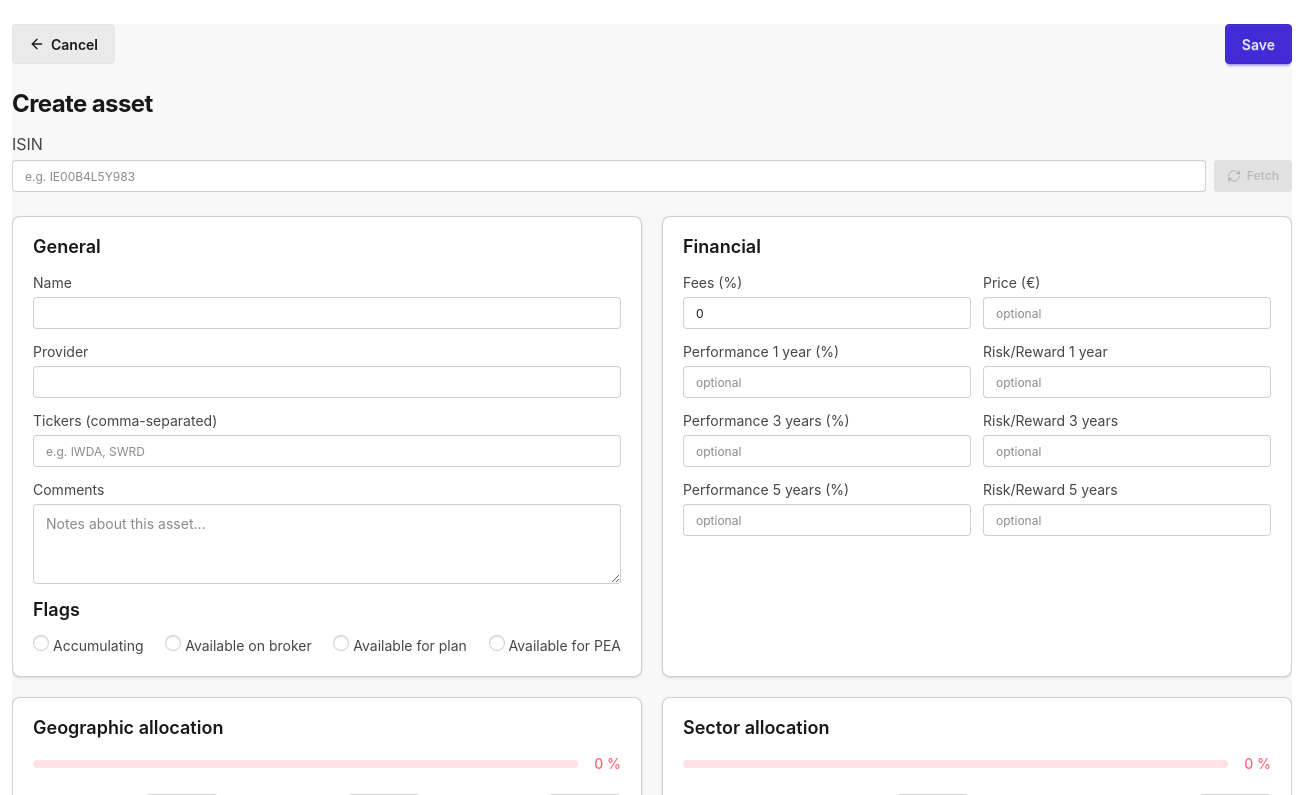
it: AssetCreatePage › clears isin error when user corrects the isin field
In the field with test id "name": [327, 313] box [33, 297, 621, 329], type "My ETF"
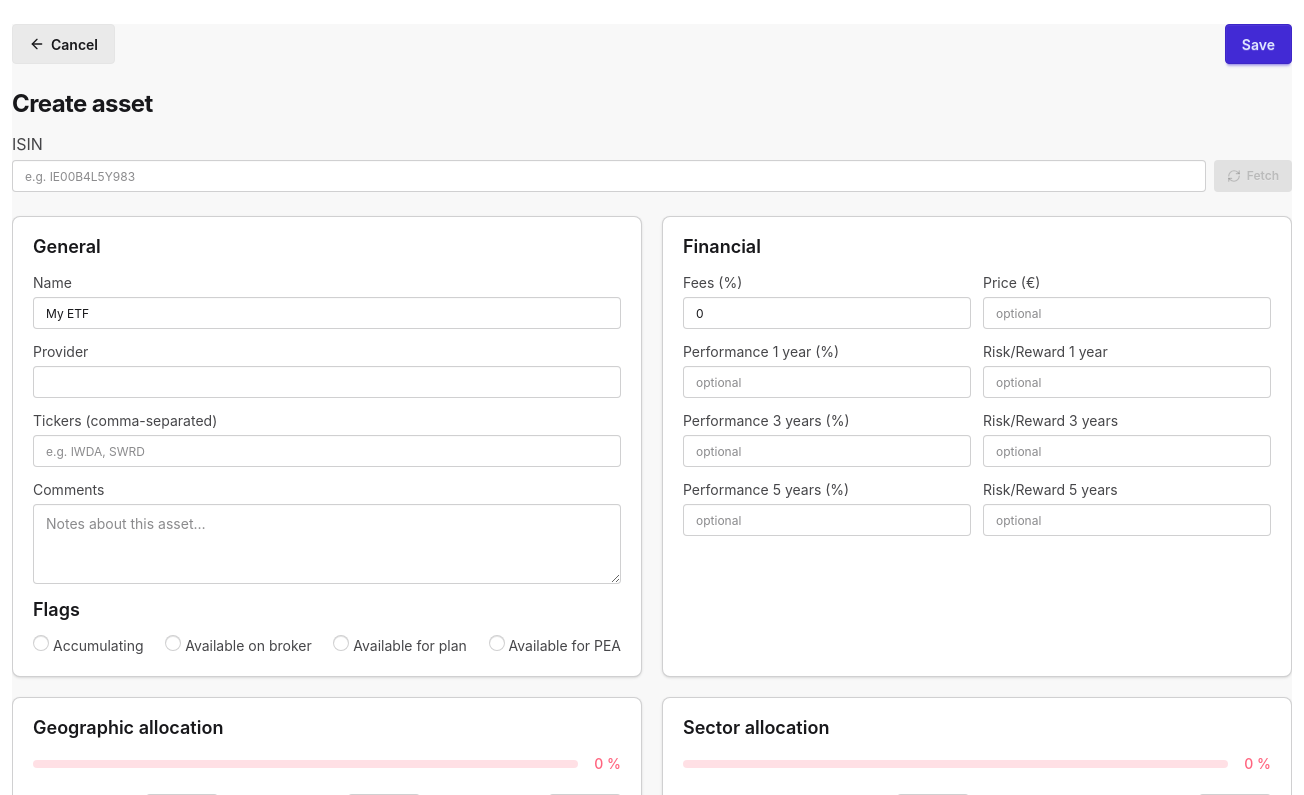
Click the button with test id "save-button": [1258, 44] box [1225, 24, 1292, 64]
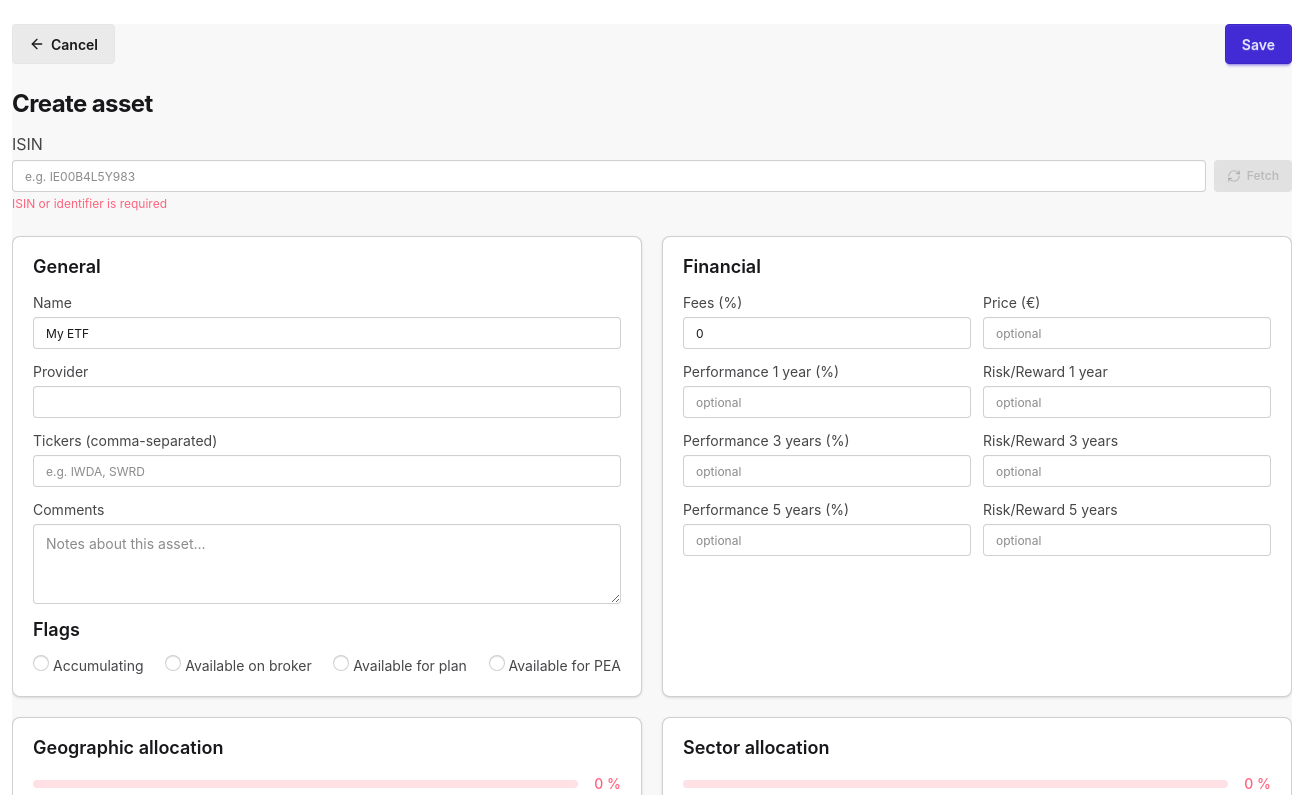
Check: the text "ISIN or identifier is required" is shown, box [12, 196, 167, 211]
In the field with test id "isin": [609, 176] box [12, 160, 1206, 192], type "IE00B4L5Y983"
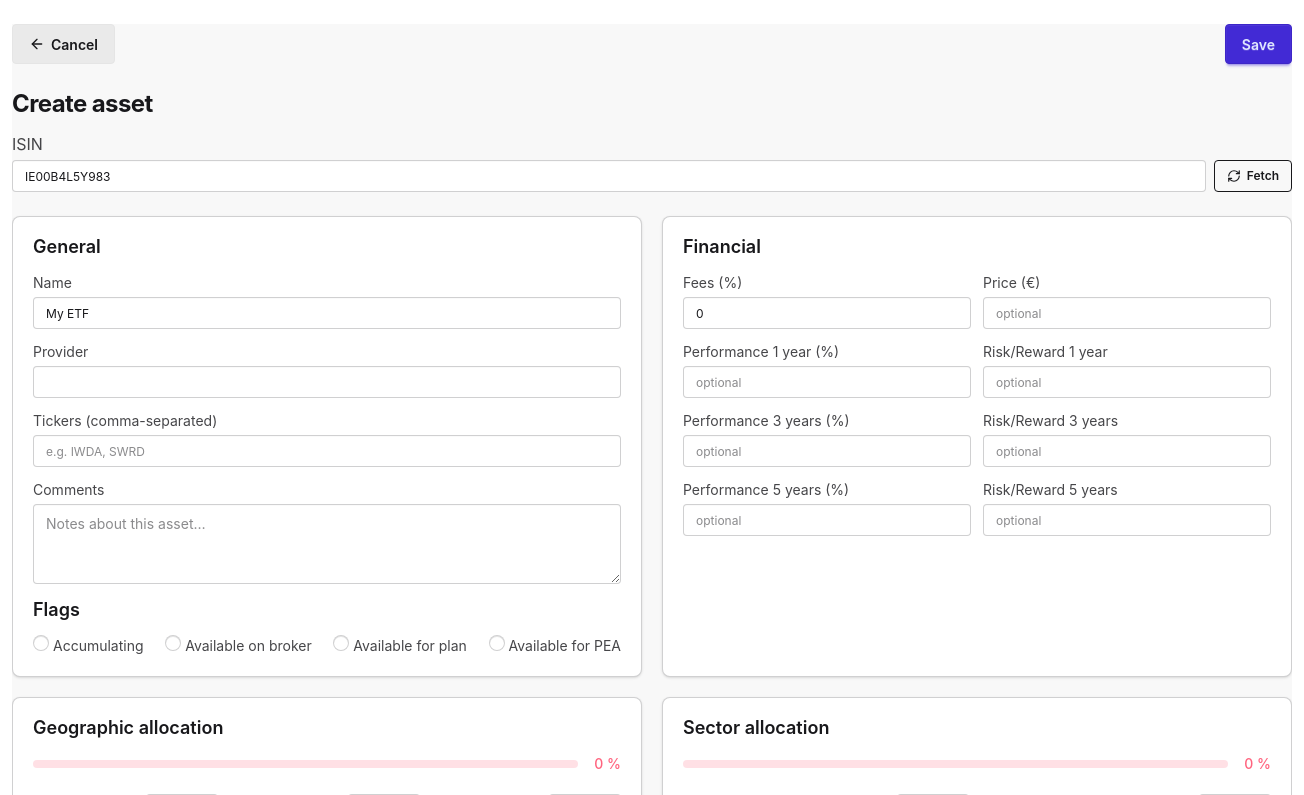
Check: the text with test id "isin-error" is gone
